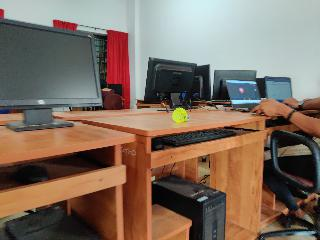shuttlecock: (172, 107, 190, 123)
